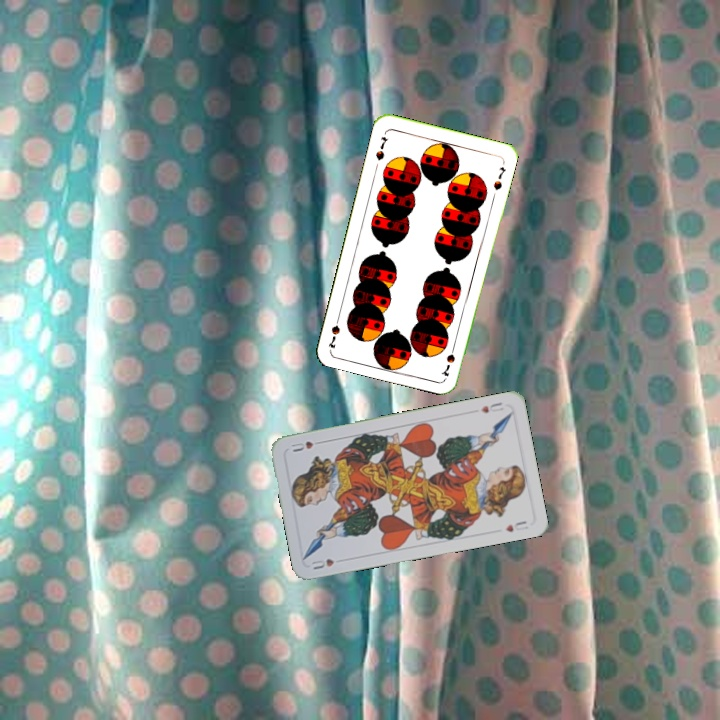HU: (307, 554, 337, 572), (477, 398, 506, 415)
S7: (438, 340, 458, 379), (371, 133, 391, 163)
